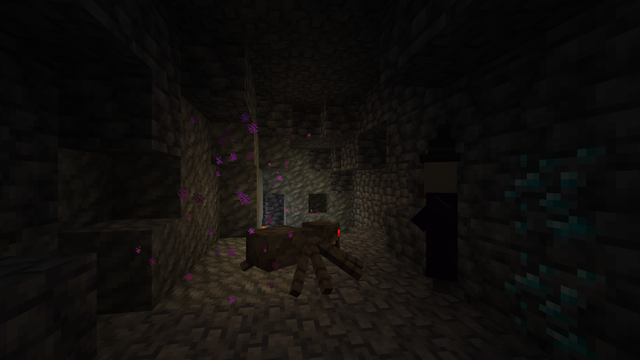araignees: (260, 214, 353, 291)
sorcieres: (413, 155, 457, 296)
